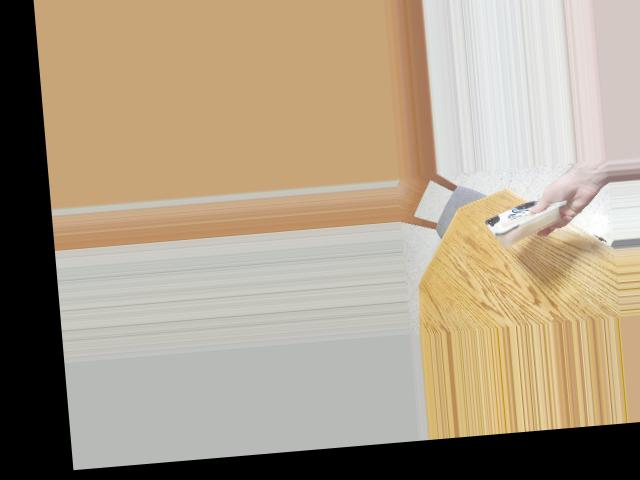cheese: (485, 184, 563, 251)
